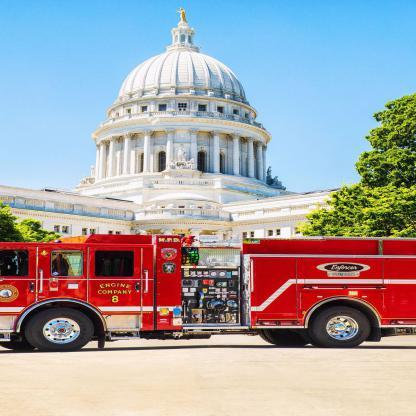fire-truck: (0, 196, 416, 405)
